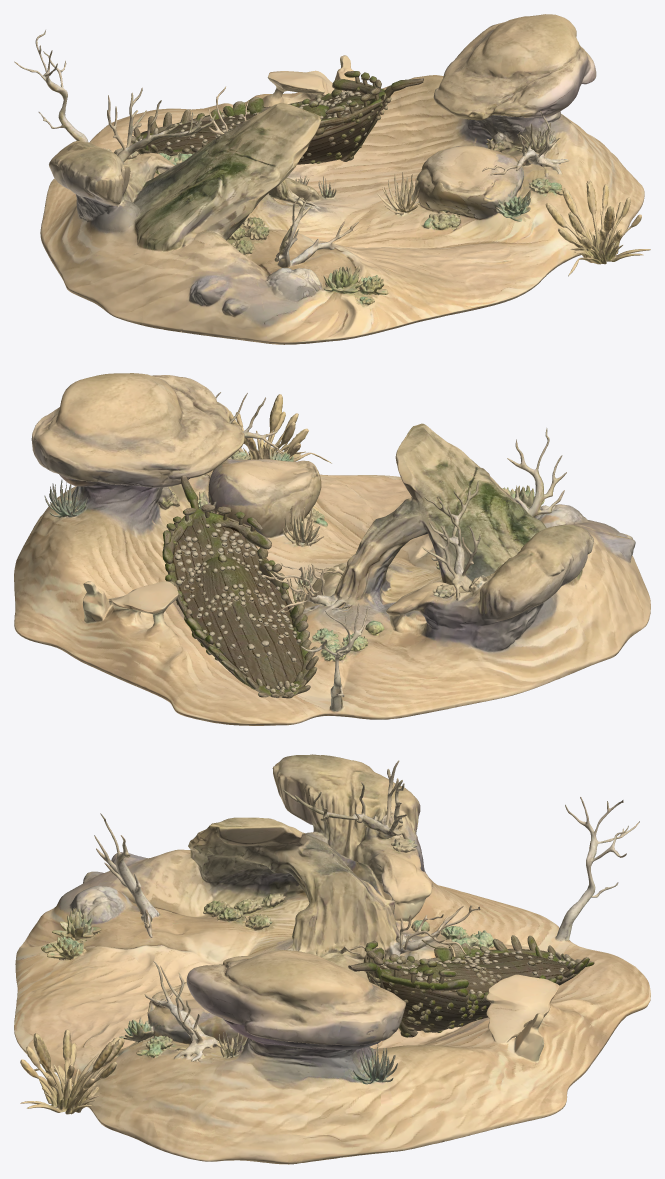
The model's file is floor.glb.
3 views of the same model, one above another, from view 1: azimuth 30°, elevation 25°; view 2: azimuth 150°, elevation 25°; view 3: azimuth 270°, elevation 25° (orthographic). The views are drawn at different scales.
Visible parts, largest first — view 1: floor, prop-Mesh_0; view 2: floor, prop-Mesh_0; view 3: floor, prop-Mesh_0.
Part boxes in pixels (x1,y1,x2,y2): floor: (14,14,650,344); prop-Mesh_0: (130,71,423,164); floor: (14,373,650,725); prop-Mesh_0: (162,475,318,698); floor: (14,754,650,1164); prop-Mesh_0: (348,935,594,1037).
Size of the model in its own units: 1 by 0.2782 by 0.901.
Materials: 2 (2 with a texture image).
